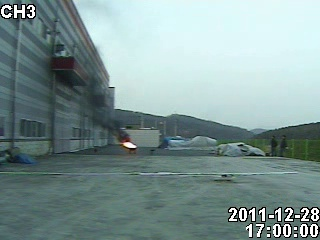fire: (120, 134, 139, 150)
